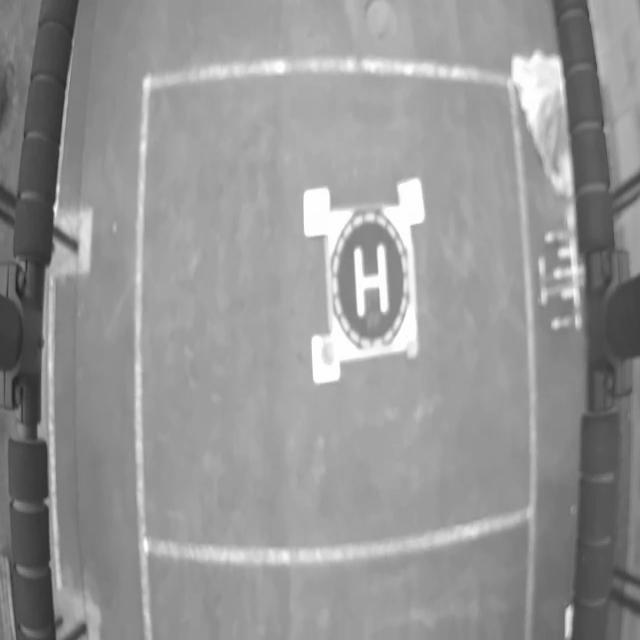Helipad: (354, 244, 389, 317)
